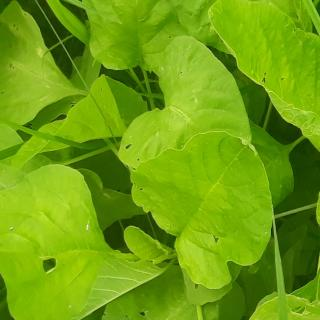karat_putih: (209, 290, 320, 320)
